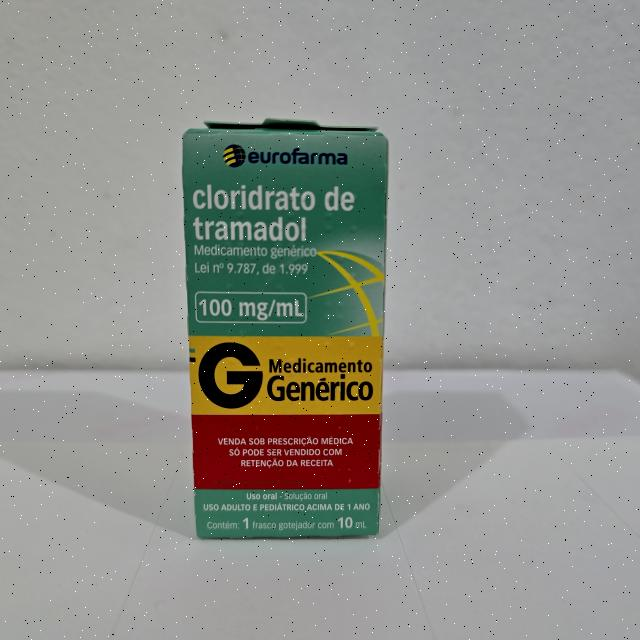tramadol: (176, 113, 392, 544)
